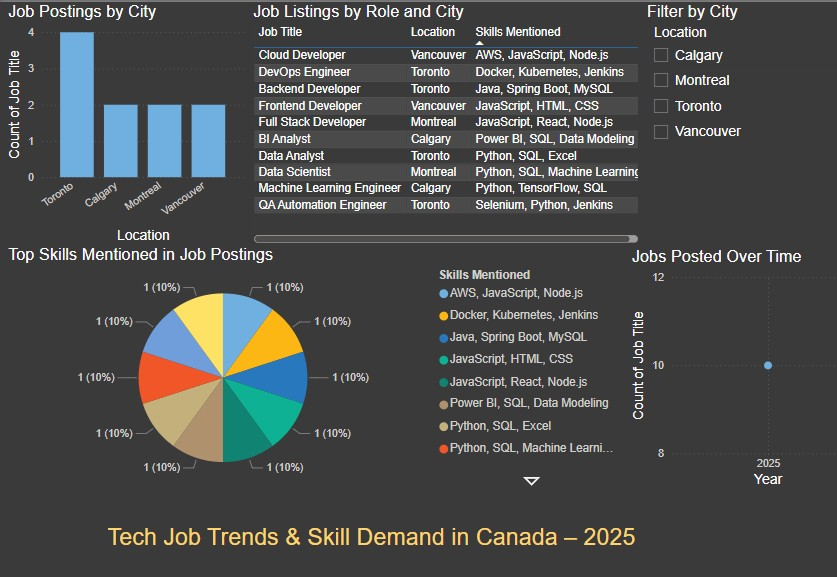

Layout of this report page (visuals, bound fields, positions):
{"tool":"powerbi","page":{"name":"Page 1","canvas":[1280,720],"ordinal":0},"visuals":[{"type":"clusteredColumnChart","title":"Job Postings by City","fields":{"Category":["Canada_Tech_Jobs.Location"],"Y":["CountNonNull(Canada_Tech_Jobs.Job Title)"]},"box":[10,0,280,280],"z":0},{"type":"pieChart","title":"Top Skills Mentioned in Job Postings","fields":{"Y":["CountNonNull(Canada_Tech_Jobs.Job Title)"],"Category":["Canada_Tech_Jobs.Skills Mentioned"]},"box":[10,278.8,712.5,281.2],"z":1000},{"type":"lineChart","title":"Jobs Posted Over Time","fields":{"Category":["Canada_Tech_Jobs.Posted Date.Variation.Date Hierarchy.Year","Canada_Tech_Jobs.Posted Date.Variation.Date Hierarchy.Quarter","Canada_Tech_Jobs.Posted Date.Variation.Date Hierarchy.Month","Canada_Tech_Jobs.Posted Date.Variation.Date Hierarchy.Day"],"Y":["CountNonNull(Canada_Tech_Jobs.Job Title)"]},"box":[722.5,280,275,278.8],"z":2000},{"type":"tableEx","title":"Job Listings by Role and City","fields":{"Values":["Canada_Tech_Jobs.Job Title","Canada_Tech_Jobs.Location","Canada_Tech_Jobs.Skills Mentioned"]},"box":[290,0,450,280],"z":3000},{"type":"slicer","title":"Filter by City","fields":{"Values":["Canada_Tech_Jobs.Location"]},"box":[740,0,258.8,280],"z":4000},{"type":"textbox","box":[20,591.2,918.8,43.8],"z":5000}]}

Visuals, with their boxes on the page's 1280x720 design canvas (x1, y1, x2, y2). These are canvas units, not pixel positions in the 837x577 screenshot, which may show the page scaled, cropped or inside an application window:
"Job Postings by City" clusteredColumnChart: [10,0,290,280]
"Top Skills Mentioned in Job Postings" pieChart: [10,279,722,560]
"Jobs Posted Over Time" lineChart: [722,280,998,559]
"Job Listings by Role and City" tableEx: [290,0,740,280]
"Filter by City" slicer: [740,0,999,280]
textbox: [20,591,939,635]
